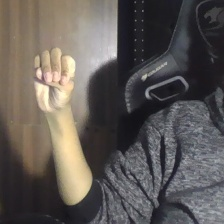M: (28, 45, 80, 119)
